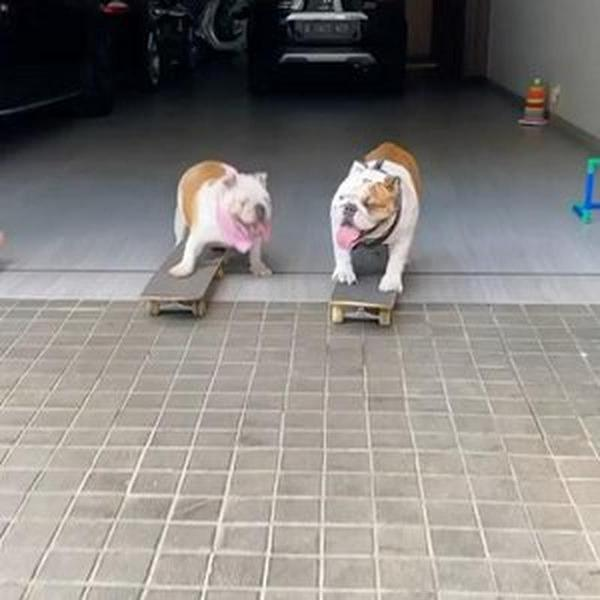allqu: (323, 136, 424, 296), (166, 154, 283, 286)
